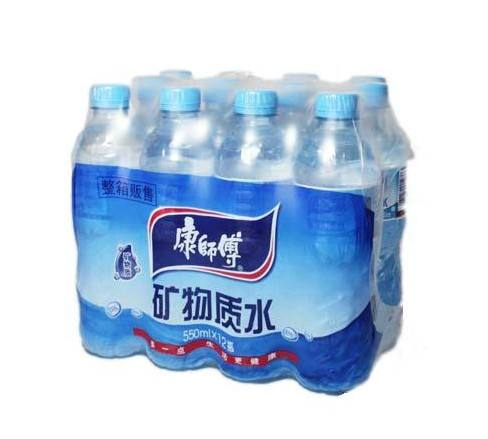amwater: (51, 43, 427, 402)
